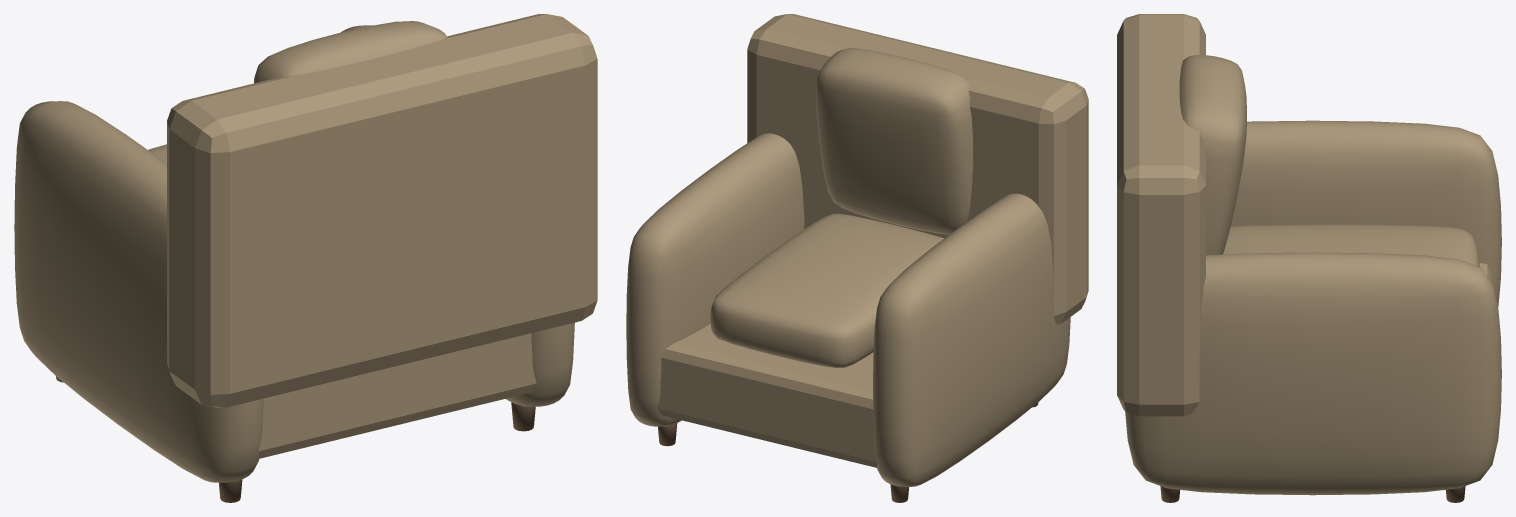
The model's file is armchair.glb.
3 renders of one model, left to right at view 1: azimuth 30°, elevation 25°; view 2: azimuth 150°, elevation 25°; view 3: azimuth 270°, elevation 25°, orthographic. The views are drawn at different scales.
Parts seen in each view (by area): view 1: frame, arm, base, back, arm.001; view 2: arm, frame, arm.001, back, seat, base; view 3: arm.001, frame, arm, back, seat.
Boxes of the visible parts, <box> form: frame: <box>167,14,597,407</box>; arm: <box>14,101,263,482</box>; base: <box>258,333,536,458</box>; back: <box>254,21,447,83</box>; arm.001: <box>341,25,574,406</box>; arm: <box>873,193,1070,486</box>; frame: <box>747,14,1088,324</box>; arm.001: <box>626,133,804,426</box>; back: <box>815,48,973,234</box>; seat: <box>710,213,943,367</box>; base: <box>657,324,877,467</box>; arm.001: <box>1125,252,1501,495</box>; frame: <box>1117,14,1205,416</box>; arm: <box>1231,120,1501,306</box>; back: <box>1179,55,1246,255</box>; seat: <box>1223,224,1479,266</box>.
Size of the model in its own units: 0.9 by 0.8847 by 0.8643.
